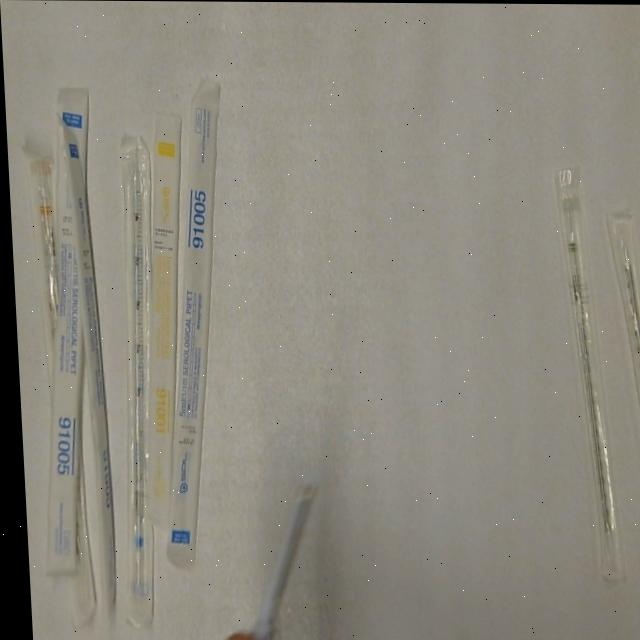Serelogical Pipet 1 mL: (122, 109, 200, 533)
Serelogical Pipet 10 mL: (20, 142, 72, 393)
Serelogical Pipet 2 mL: (551, 163, 624, 587)
Serelogical Pipet 5 mL: (138, 76, 243, 568), (17, 83, 110, 577), (97, 134, 170, 632), (54, 111, 117, 620)
